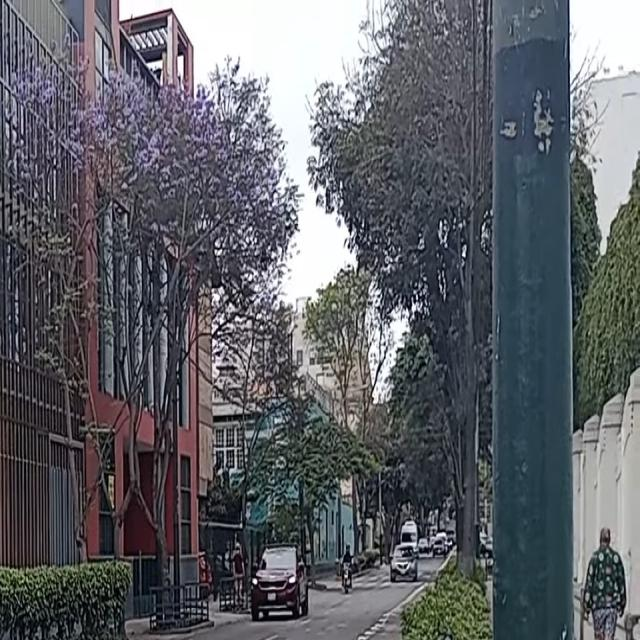car: (250, 546, 309, 618), (390, 545, 420, 584)
motorcycle: (340, 558, 354, 593)
